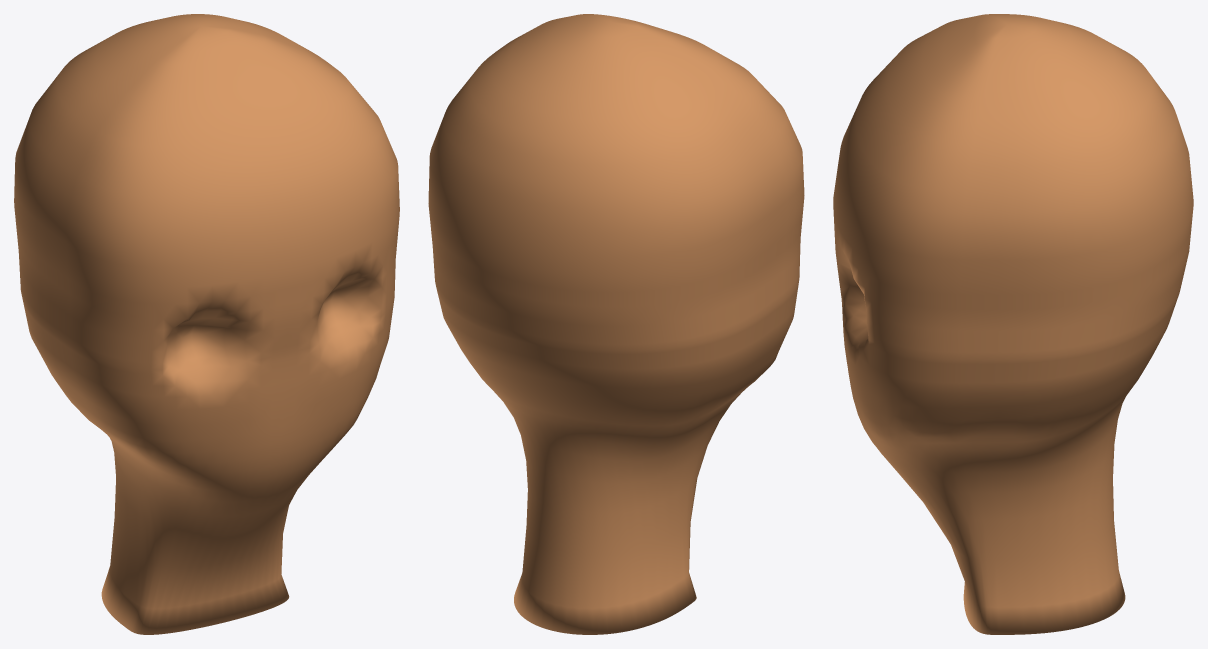
The model's file is base-feminina-01.glb.
3 views of the same model, side by side, from view 1: azimuth 30°, elevation 25°; view 2: azimuth 150°, elevation 25°; view 3: azimuth 270°, elevation 25° (orthographic). The views are drawn at different scales.
Parts seen in each view (by area): view 1: RCL_Base_Feminina_01; view 2: RCL_Base_Feminina_01; view 3: RCL_Base_Feminina_01.
Part boxes in pixels (x1,y1,x2,y2): RCL_Base_Feminina_01: [14, 14, 399, 634]; RCL_Base_Feminina_01: [428, 14, 804, 634]; RCL_Base_Feminina_01: [833, 14, 1193, 634].
Size of the model in its own units: 0.174 by 0.305 by 0.174.
